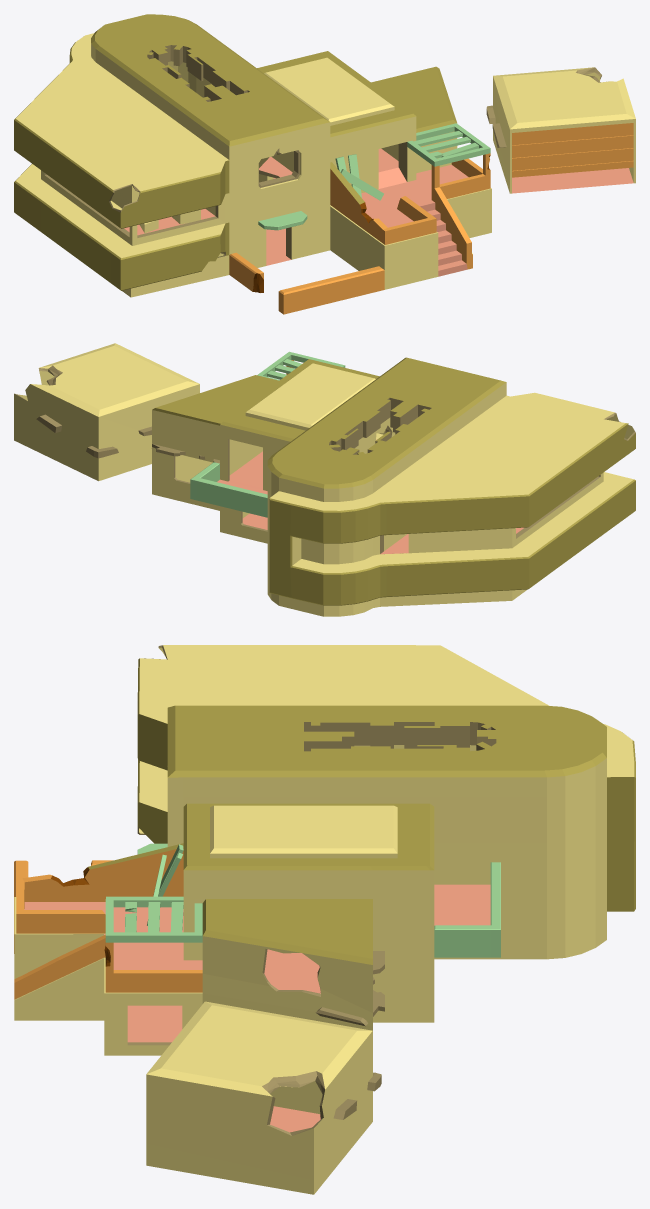
The model's file is Villa nummero 3.fbx Fertig.fbx.
3 renders of one model, top to bottom at view 1: azimuth 30°, elevation 25°; view 2: azimuth 150°, elevation 25°; view 3: azimuth 270°, elevation 25°, orthographic. The views are drawn at different scales.
Visible parts, largest first — view 1: Wichtig_LOD0, sCHWÄBÖ kLOTZE; view 2: Wichtig_LOD0; view 3: Wichtig_LOD0.
Boxes of the visible parts, x1,y1,x2,y2 form: Wichtig_LOD0: [14, 14, 635, 314]; sCHWÄBÖ kLOTZE: [139, 209, 200, 233]; Wichtig_LOD0: [14, 343, 635, 616]; Wichtig_LOD0: [14, 645, 635, 1194].
Size of what is drawn, in the model's own units: 3497 by 782 by 2371.
